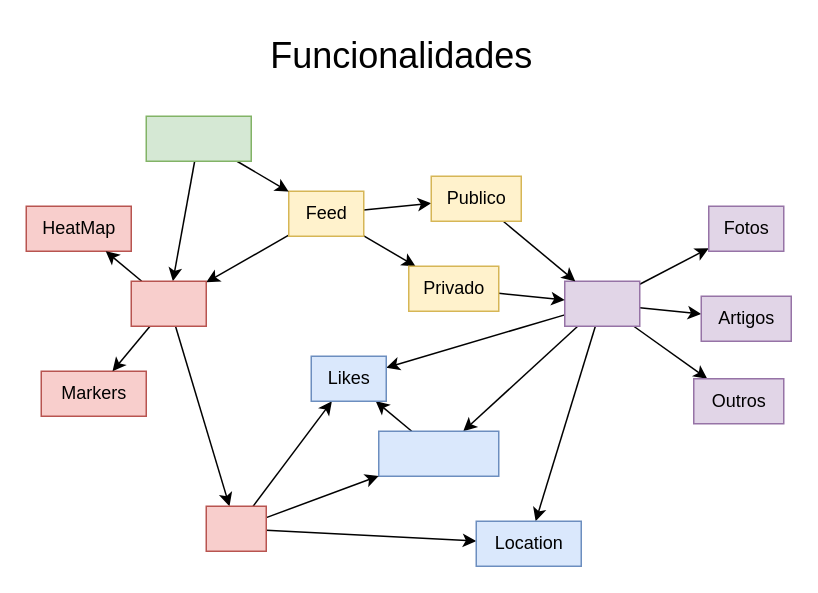
The diagram is 818 pixels wide and 593 high, and some of its shapes have lost their labels. The shapes that lost their labels are listed below. From the top down, each one's box as (x1, y1, x2, y2) in pixels, then its label:
(145, 115, 251, 161): ChatBot
(130, 280, 206, 326): Map
(563, 280, 640, 326): Posts
(377, 430, 499, 476): Comments
(205, 505, 266, 551): POI
